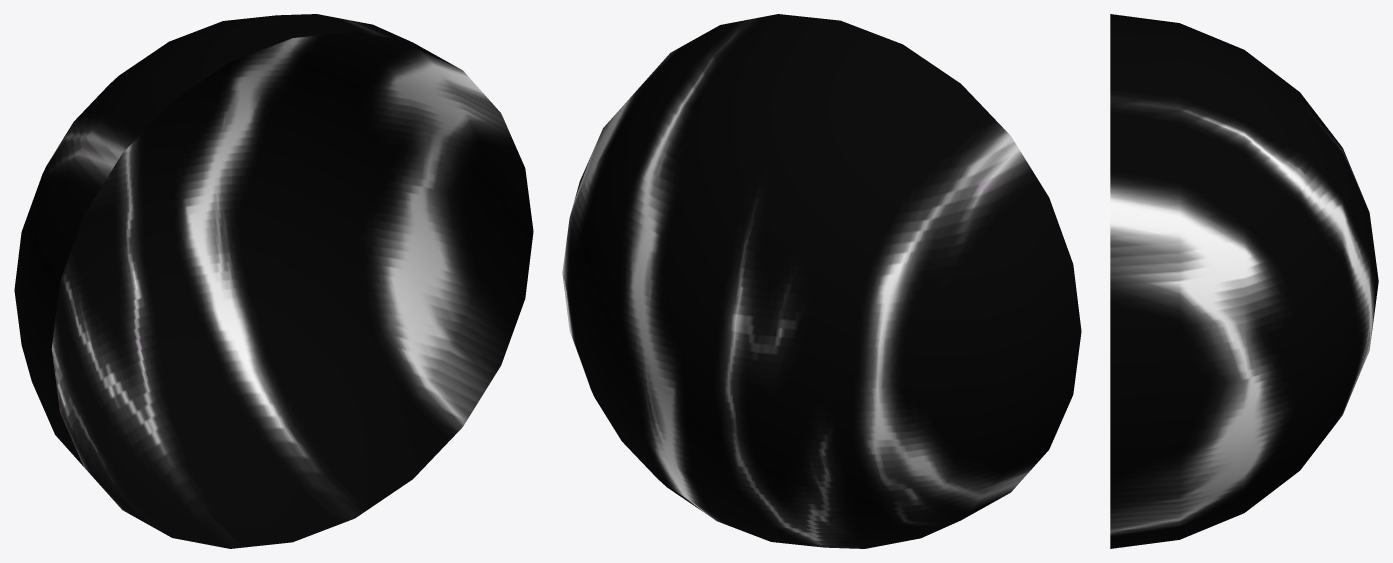
The model's file is 0142_S_FX_yanjiusuo_01.glb.
3 views of the same model, side by side, from view 1: azimuth 30°, elevation 25°; view 2: azimuth 150°, elevation 25°; view 3: azimuth 270°, elevation 25° (orthographic). The views are drawn at different scales.
Size of the model in its own units: 2.2 by 2.2 by 1.1.
1 material, 1 textured.
